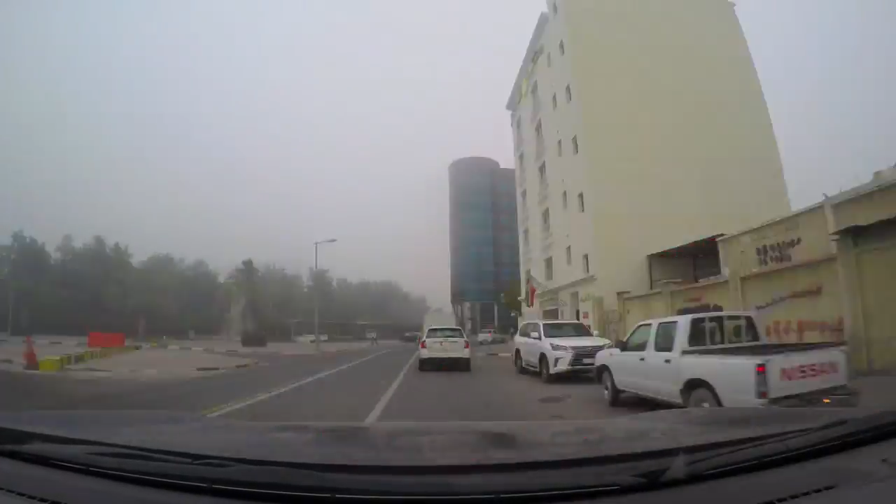car: (593, 310, 851, 420), (510, 318, 615, 382), (415, 323, 473, 374), (475, 326, 508, 346), (400, 331, 422, 342), (364, 327, 378, 341)
